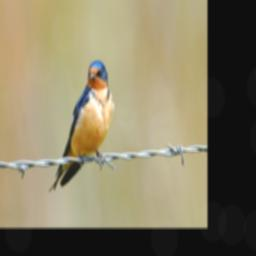Swallow: (49, 56, 117, 196)
